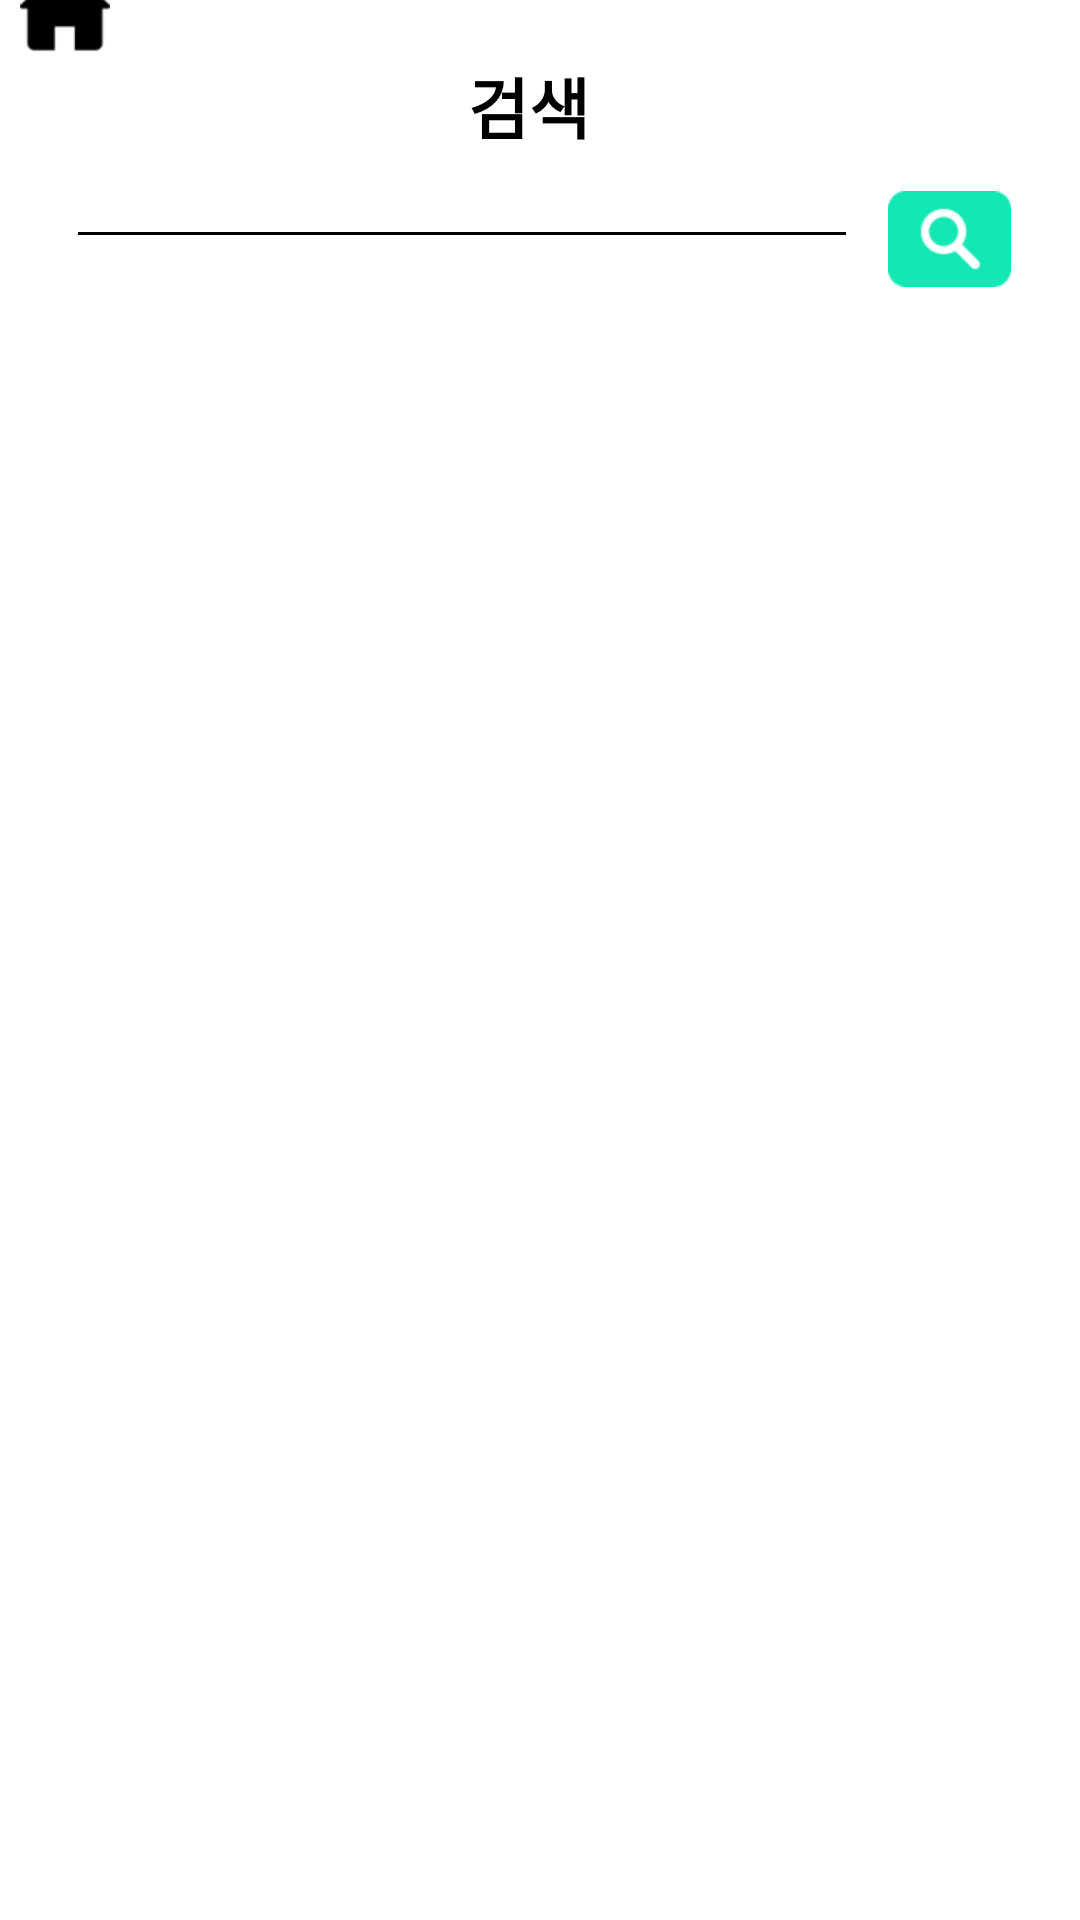

Where to tap for icons on this 1080×1920 app screen, as point (x, y):
searchbutton: point (949, 239)
